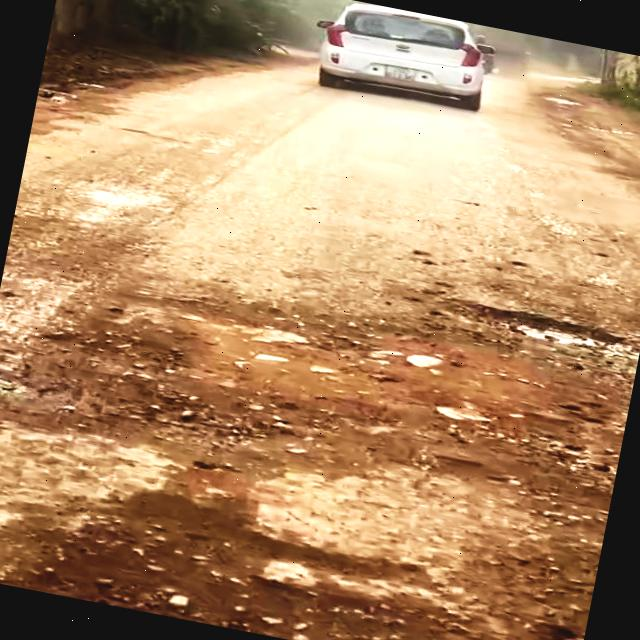pothole: (0, 446, 597, 640), (0, 306, 307, 471), (442, 292, 640, 369)
